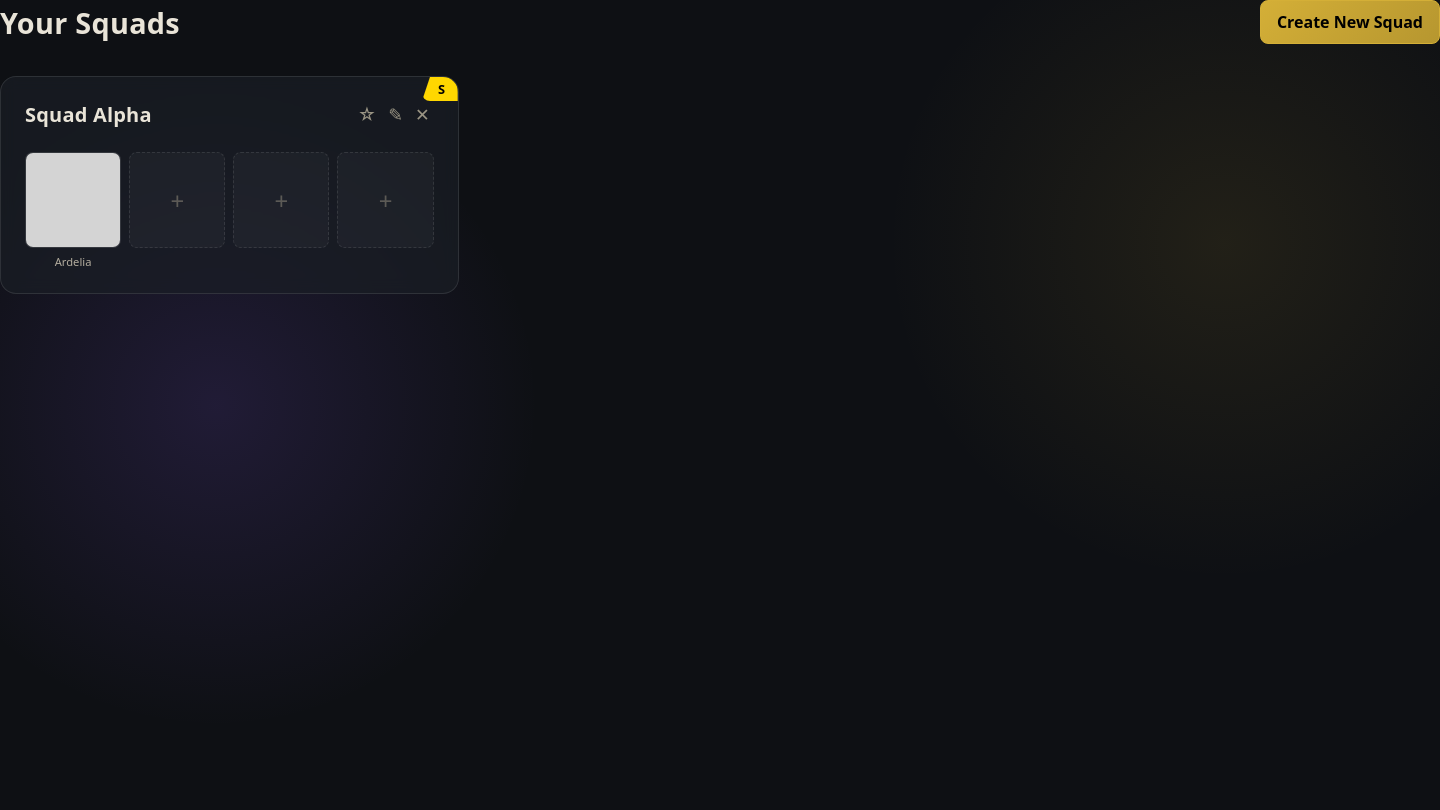
Test case: PartiesTab (AE config wiring) › uses the Squad noun with the tier selector enabled
Check: the heading "Your Squads" is shown, box [0,2,180,42]
Click the button "Create New Squad" at (1350, 22), box [1260,0,1439,44]
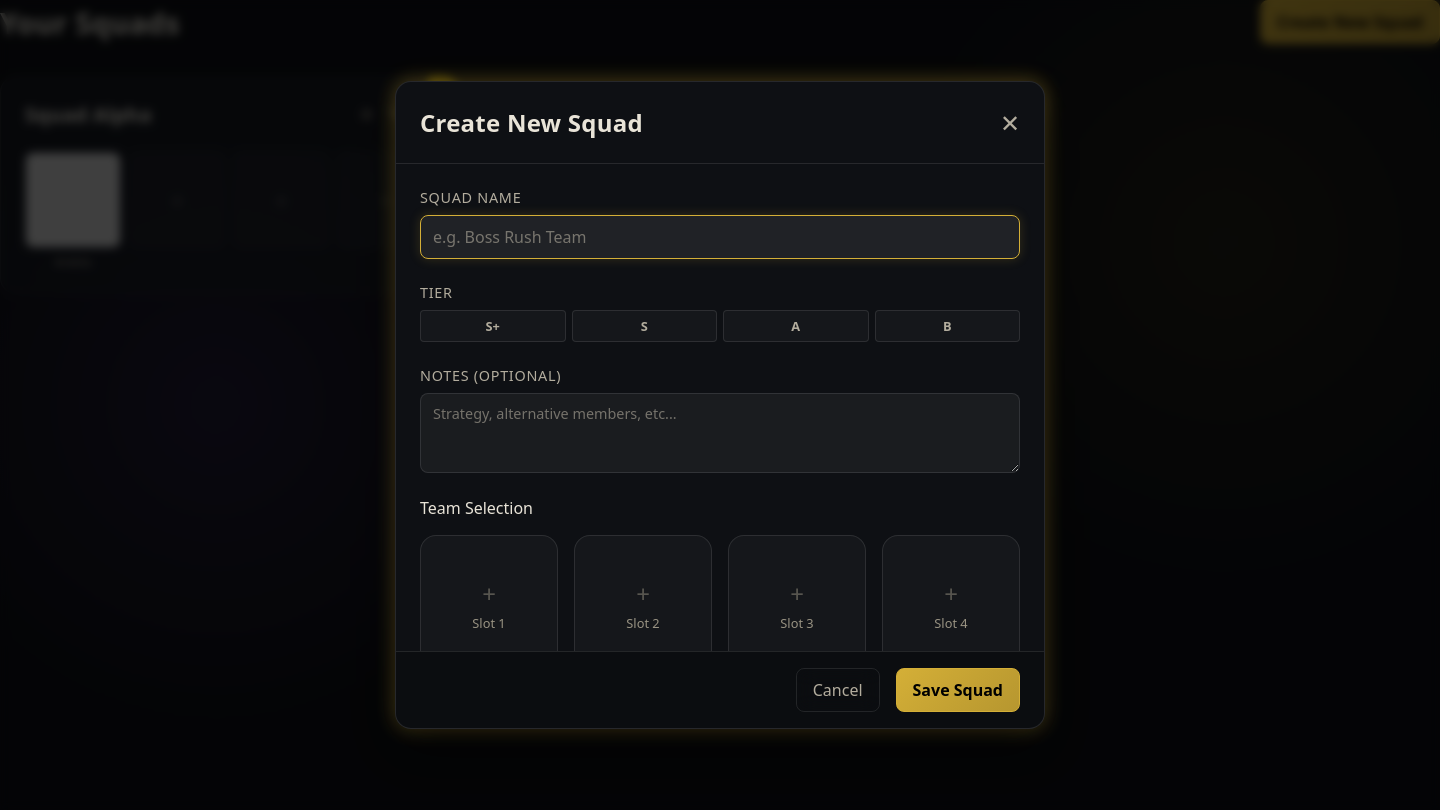
Check: the field with placeholder "e.g. Boss Rush Team" is shown, box [420,215,1020,259]
Check: the text "Tier" is shown, box [420,283,453,302]
